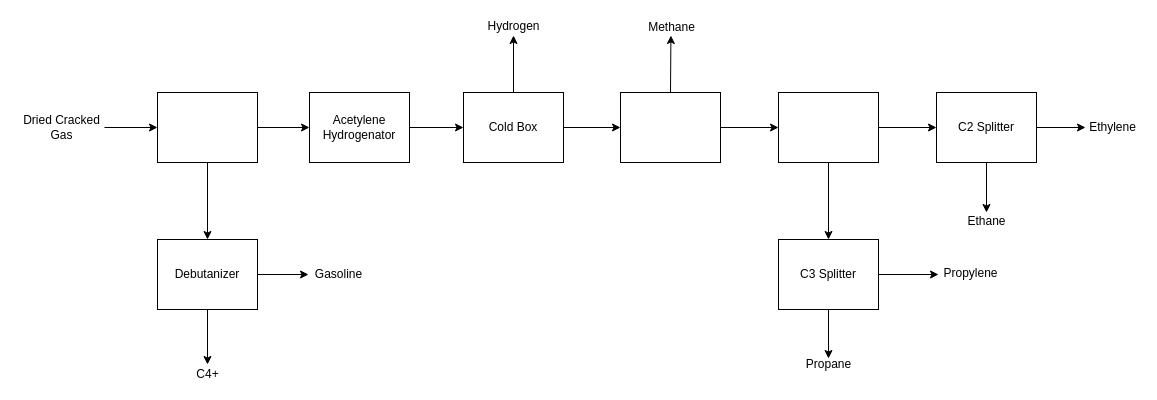
Some shapes in this 1157 by 400 pixel diagram are drawn without their labels. The shapes that lost their labels are listed below. From the top down, each one's centre as x and y in pixels, then its label:
At [207,127]: "Depropanizer".
At [670,127]: "Demethanizer".
At [828,127]: "Deethanizer".
